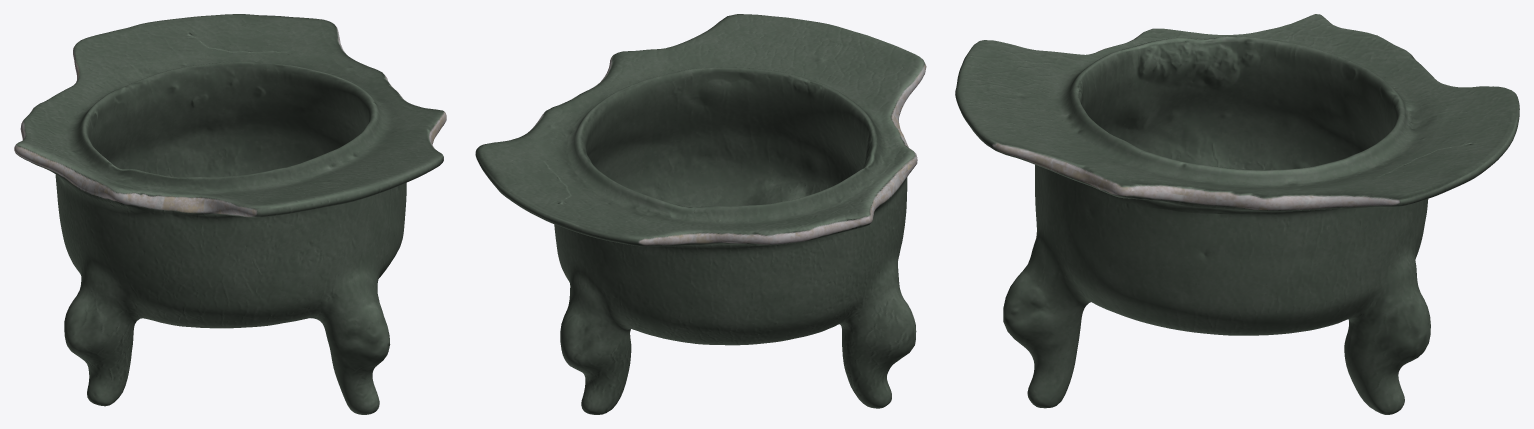
Rendered from SM_LionIncenseBurner_bottom.fbx.
3 views of the same model, side by side, from view 1: azimuth 30°, elevation 25°; view 2: azimuth 150°, elevation 25°; view 3: azimuth 270°, elevation 25° (orthographic). The views are drawn at different scales.
Visible parts, largest first — view 1: SM_LionIncenseBurner_bottom; view 2: SM_LionIncenseBurner_bottom; view 3: SM_LionIncenseBurner_bottom.
Boxes of the visible parts, left/top/right/bottom form: SM_LionIncenseBurner_bottom: left=14, top=14, right=446, bottom=414; SM_LionIncenseBurner_bottom: left=475, top=14, right=926, bottom=414; SM_LionIncenseBurner_bottom: left=955, top=14, right=1519, bottom=414.
Bounding box in the file's own units: 24.58 × 29.84 × 17.32.
1 material, 1 textured.
